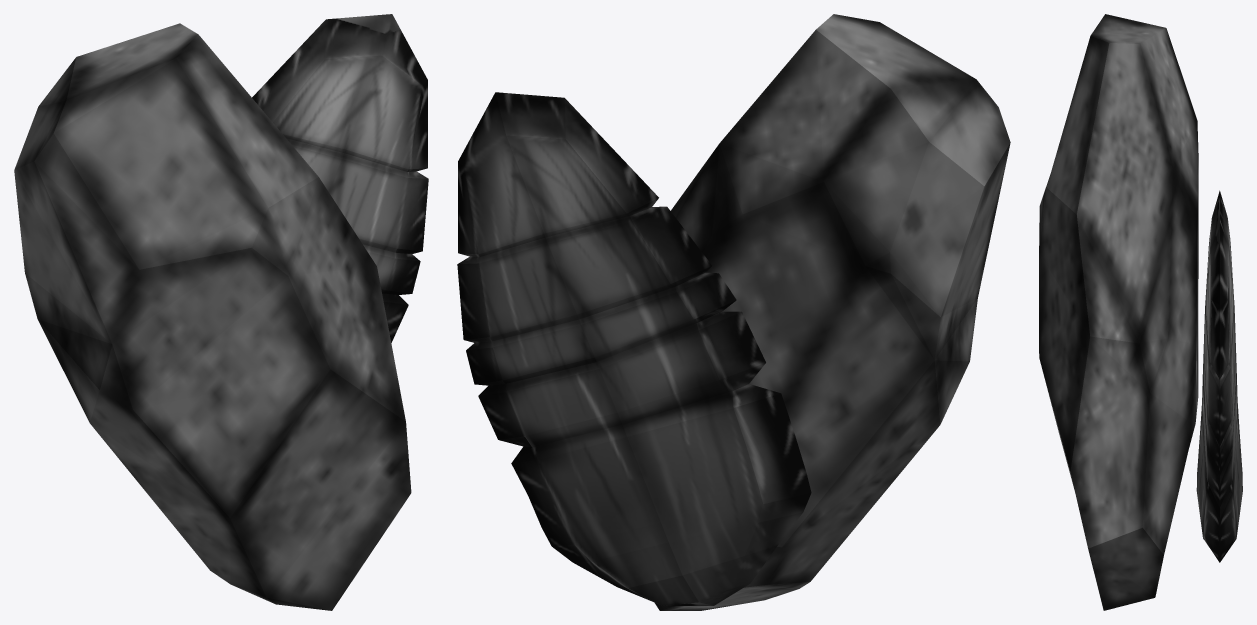
File: feuerstein_V1.fbx
3 renders of one model, left to right at view 1: azimuth 30°, elevation 25°; view 2: azimuth 150°, elevation 25°; view 3: azimuth 270°, elevation 25°, orthographic. The views are drawn at different scales.
Parts seen in each view (by area): view 1: Sphere.003, Cube; view 2: Cube, Sphere.003; view 3: Sphere.003, Cube.
Boxes of the visible parts, x1,y1,x2,y2 form: Sphere.003: [14, 23, 411, 610]; Cube: [252, 14, 428, 342]; Cube: [457, 92, 811, 606]; Sphere.003: [654, 14, 1010, 610]; Sphere.003: [1039, 14, 1198, 610]; Cube: [1196, 190, 1242, 562].
Bounding box in the file's own units: 1092 × 1368 × 492.
Materials: 1 (1 with a texture image).
